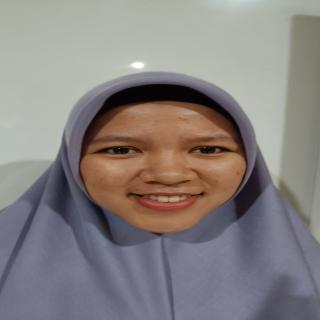Senang: (75, 87, 258, 240)
